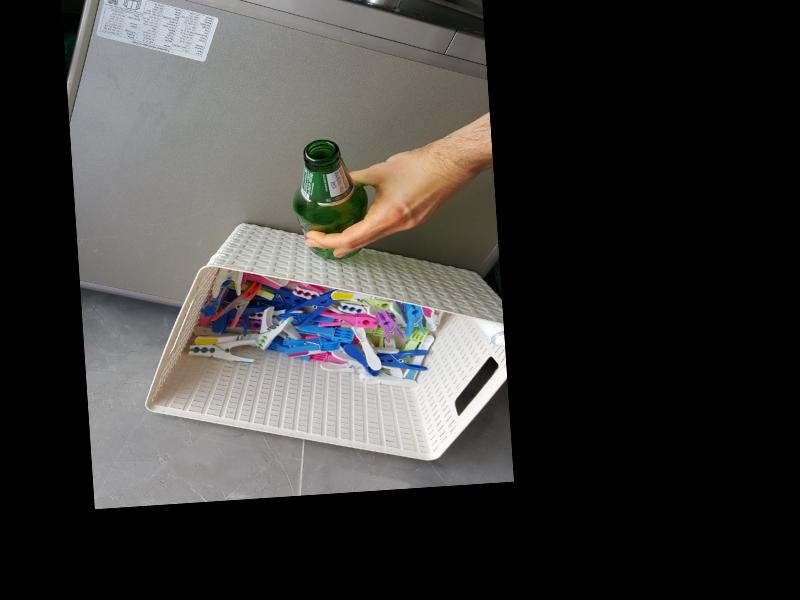Beer: (289, 136, 370, 261)
